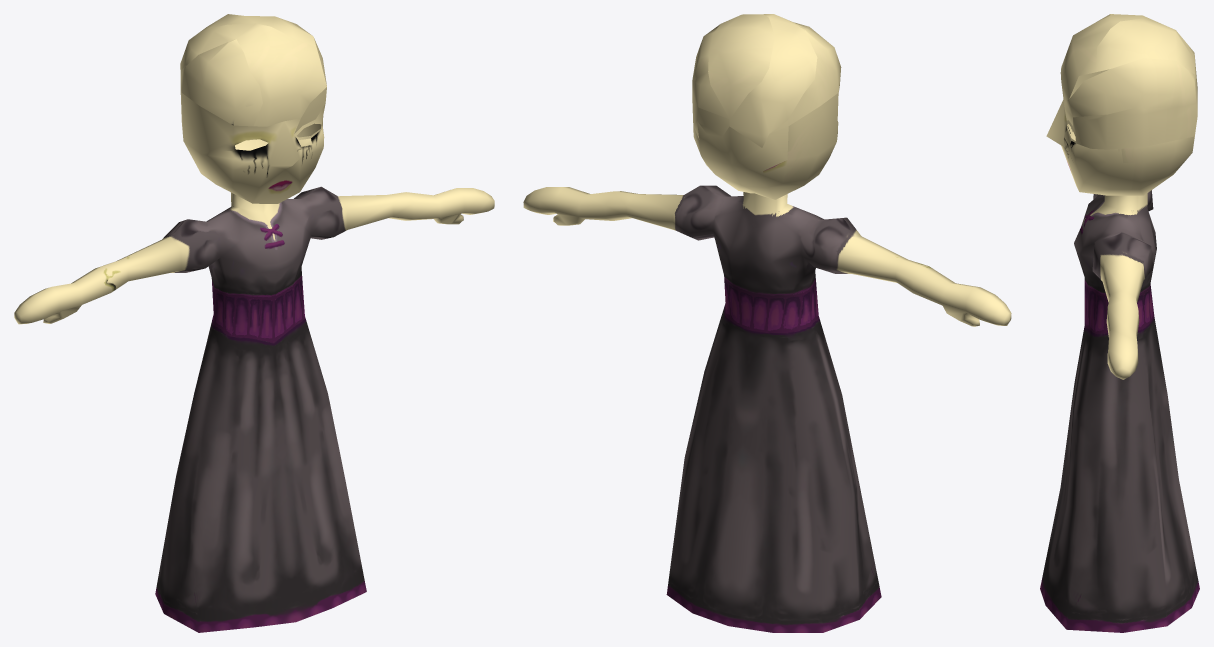
Rendered from BONECA.dae.
3 renders of one model, left to right at view 1: azimuth 30°, elevation 25°; view 2: azimuth 150°, elevation 25°; view 3: azimuth 270°, elevation 25°, orthographic.
Visible parts, largest first — view 1: Body, Head, Head.004, Head.003, Head.005; view 2: Body, Head, Head.004, Head.005, Head.003, Head.002, Head.001; view 3: Body, Head, Head.002, Head.001, Head.005, Head.004.
Part boxes in pixels (bbox=[...]): Body: bbox=[14, 186, 494, 632]; Head: bbox=[180, 39, 324, 203]; Head.004: bbox=[180, 23, 326, 126]; Head.003: bbox=[180, 39, 262, 126]; Head.005: bbox=[200, 14, 316, 47]; Body: bbox=[523, 185, 1011, 632]; Head: bbox=[693, 27, 838, 199]; Head.004: bbox=[729, 14, 818, 147]; Head.005: bbox=[708, 14, 774, 118]; Head.003: bbox=[770, 26, 841, 133]; Head.002: bbox=[692, 24, 729, 119]; Head.001: bbox=[692, 92, 729, 139]; Body: bbox=[1040, 190, 1199, 632]; Head: bbox=[1046, 14, 1194, 195]; Head.002: bbox=[1064, 58, 1196, 125]; Head.001: bbox=[1066, 95, 1197, 149]; Head.005: bbox=[1069, 18, 1196, 98]; Head.004: bbox=[1060, 14, 1197, 106].
Size of the model in its own units: 2.53 by 0.7376 by 2.89.
Materials: 7 (7 with a texture image).
